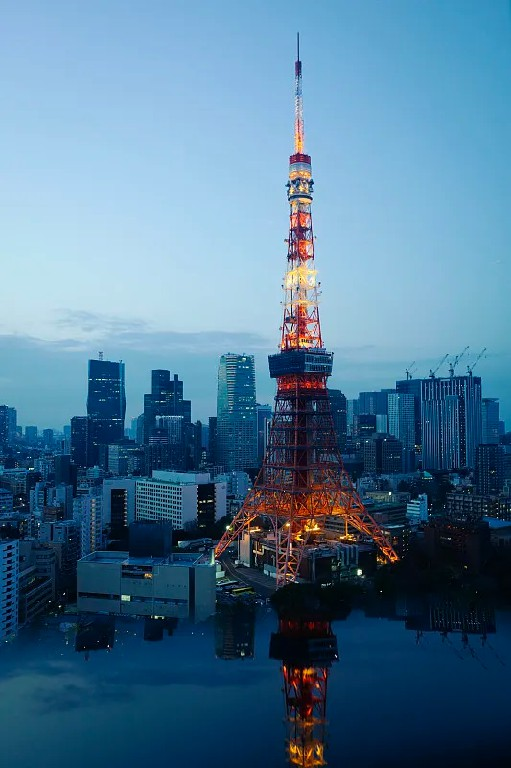Tokyo: (215, 28, 399, 590)
